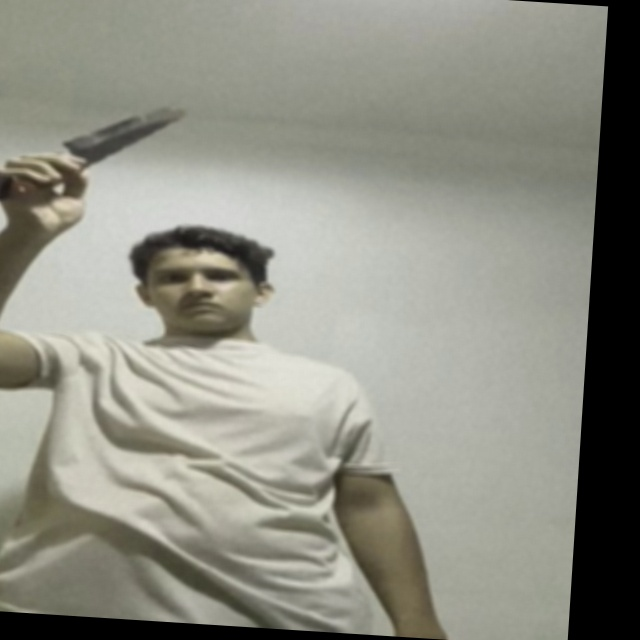Sharp-Object: (63, 102, 192, 162)
